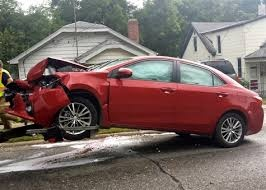Dent: (43, 73, 76, 98), (89, 73, 106, 95)
Smashed: (3, 58, 106, 137)
